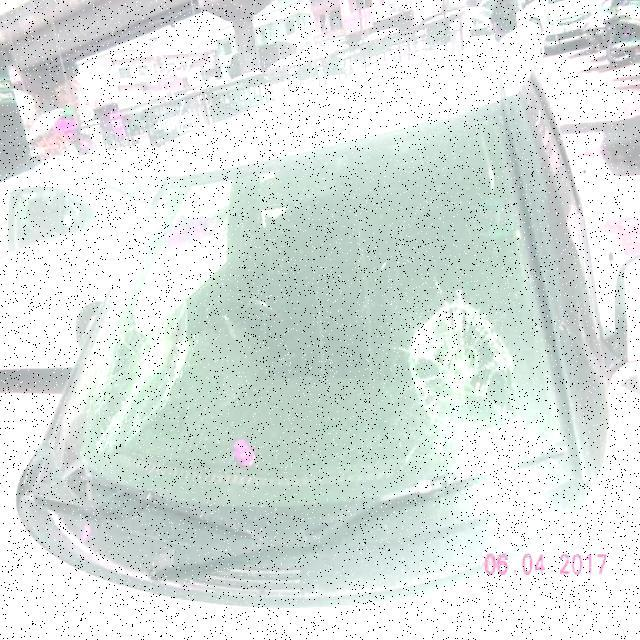car damage: (410, 299, 516, 453), (94, 285, 186, 444)
